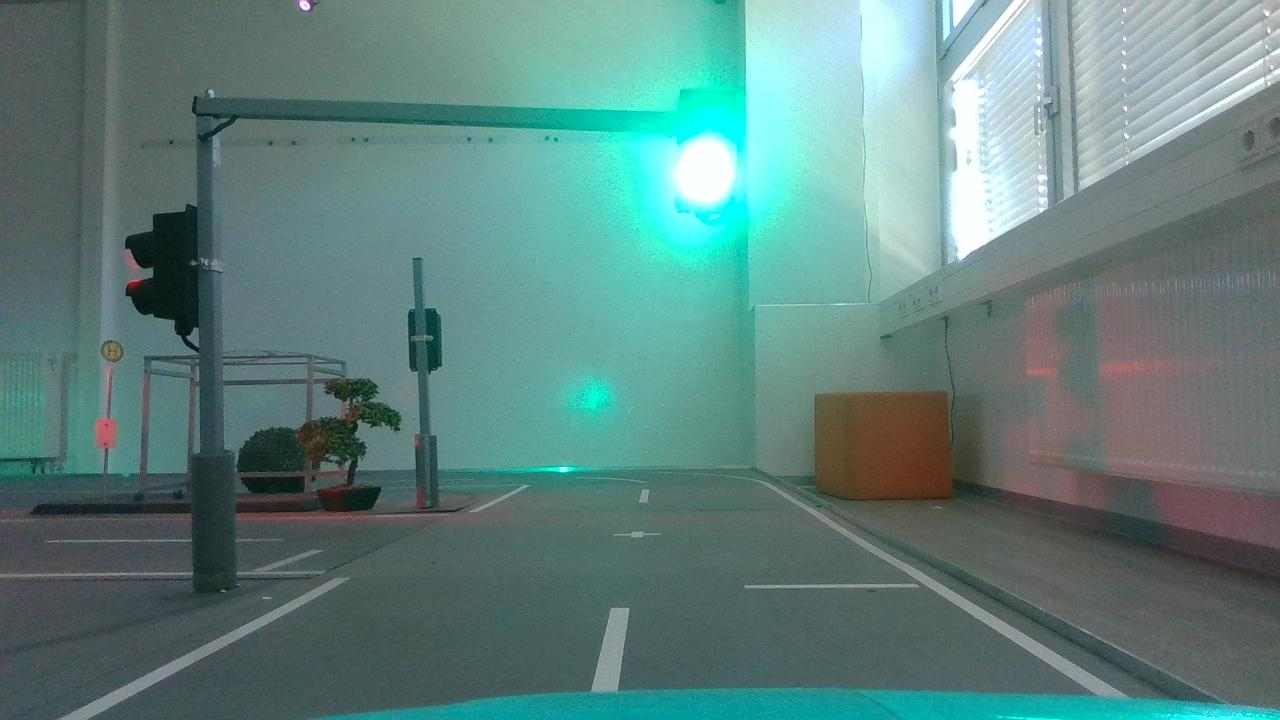traffic_light_green: (650, 66, 761, 246)
